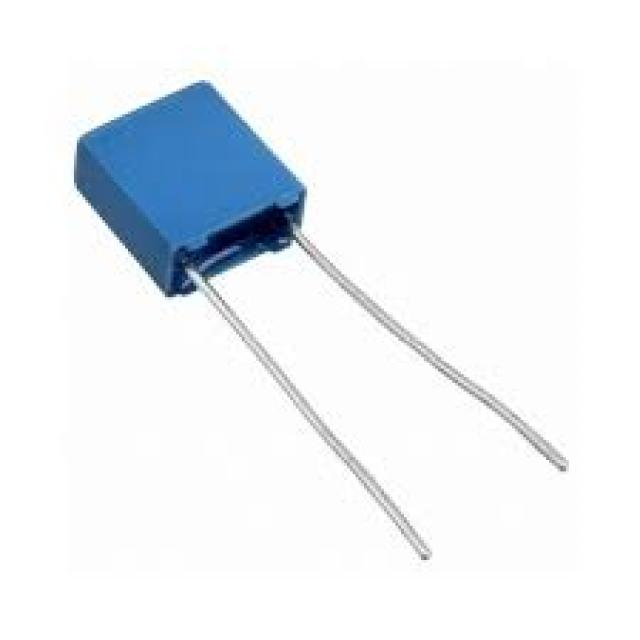Capacitor: (74, 80, 307, 300)
